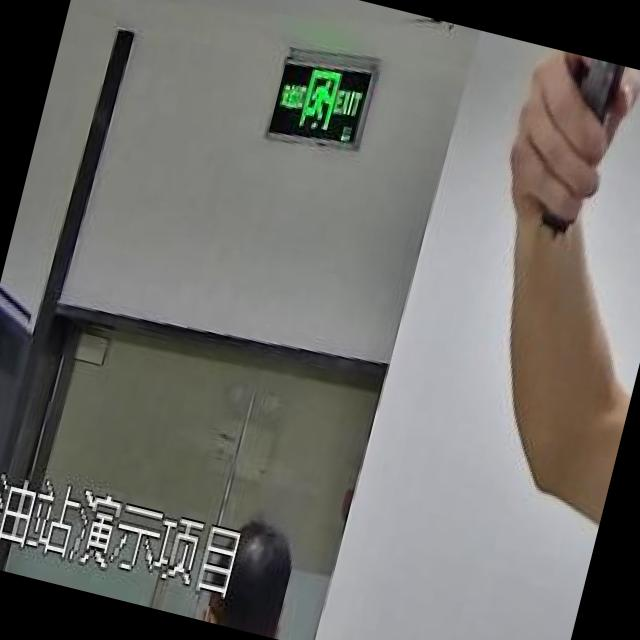Guns: (499, 48, 640, 287)
